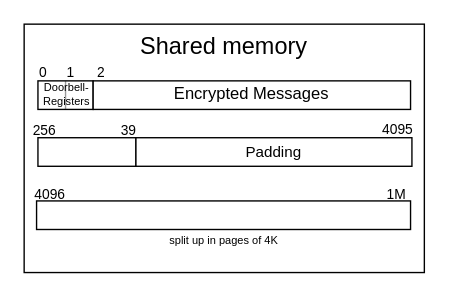
Some shapes in this 449 by 297 pixel diagram are drawn without their labels. The shapes that lost their labels are listed below. From the top down, each one's box as (x1, y1, x2, y2) in pixels, then its label:
(37, 136, 136, 166): proxyShmem
(35, 200, 411, 229): DMA region
